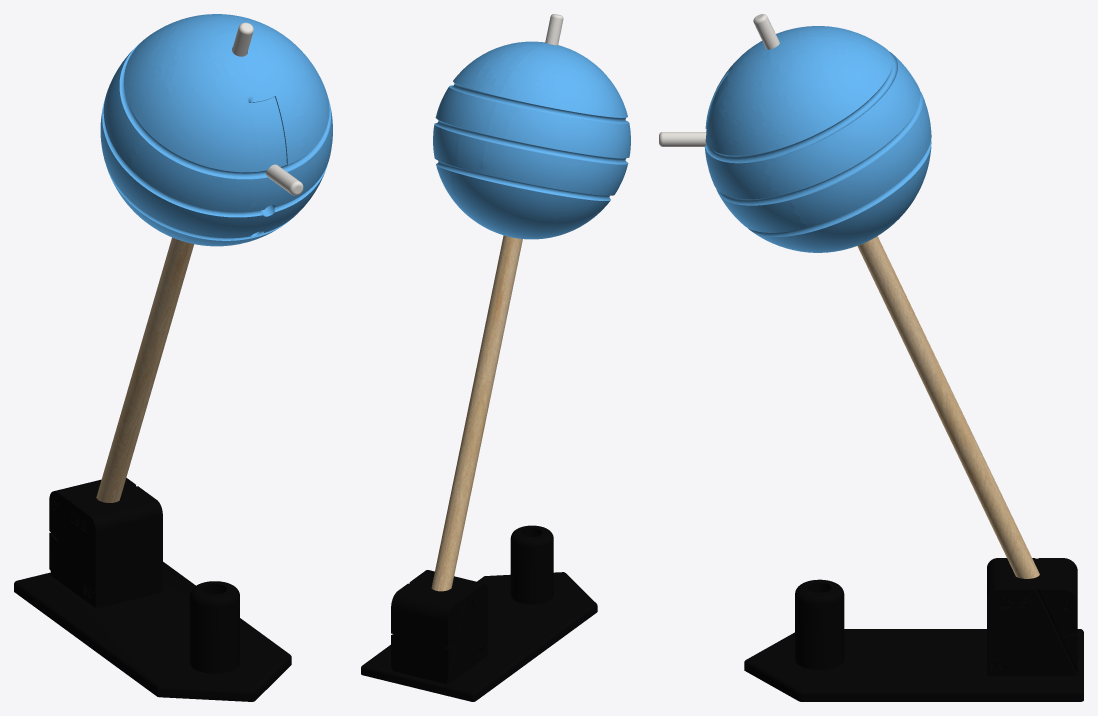
The picture shows the model from 3 angles, left to right: view 1: azimuth 30°, elevation 25°; view 2: azimuth 150°, elevation 25°; view 3: azimuth 270°, elevation 25°; orthographic projection. The views are drawn at different scales.
Visible parts, largest first — view 1: mesh_1, mesh_3, mesh_2, mesh_0; view 2: mesh_1, mesh_3, mesh_2; view 3: mesh_1, mesh_3, mesh_2, mesh_0.
Part boxes in pixels (x1,y1,x2,y2): mesh_1: [100, 14, 332, 246]; mesh_3: [14, 478, 291, 701]; mesh_2: [96, 237, 194, 502]; mesh_0: [232, 22, 303, 195]; mesh_1: [433, 41, 630, 239]; mesh_3: [361, 525, 597, 701]; mesh_2: [431, 235, 522, 591]; mesh_1: [704, 26, 931, 252]; mesh_3: [744, 558, 1083, 701]; mesh_2: [857, 236, 1039, 578]; mesh_0: [659, 14, 779, 146].
Size of the model in its own units: 0.06 by 0.1911 by 0.1122.
4 materials, 1 textured.
